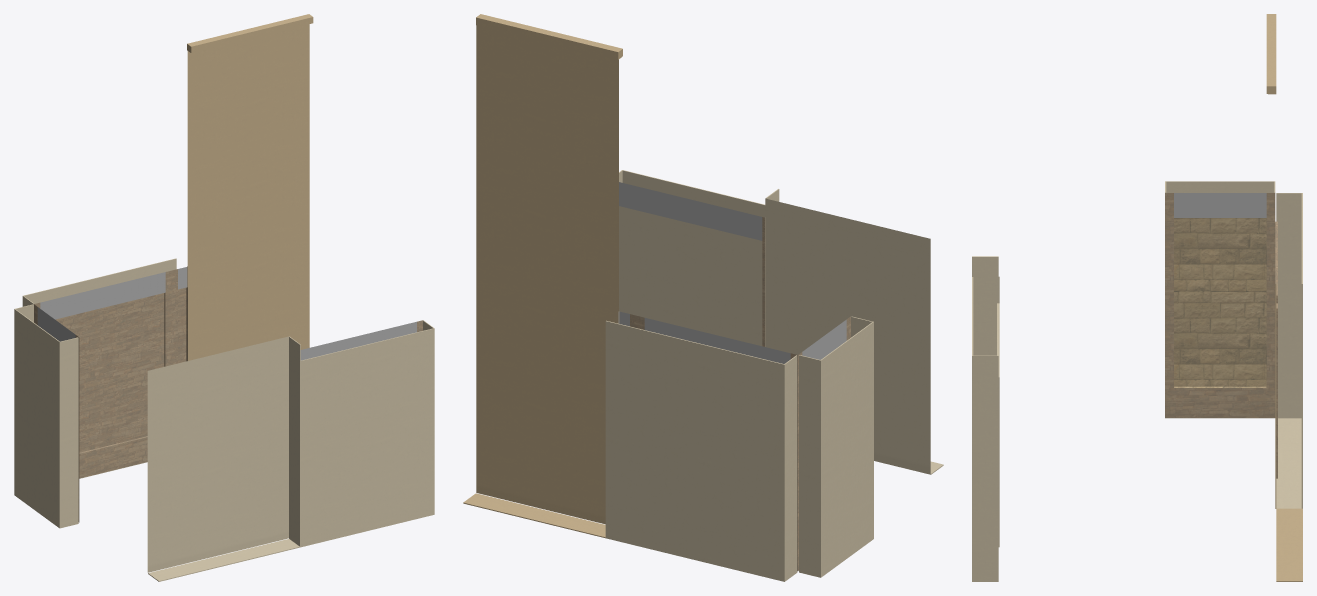
File: unit-link-south-west.glb
3 views of the same model, side by side, from view 1: azimuth 30°, elevation 25°; view 2: azimuth 150°, elevation 25°; view 3: azimuth 270°, elevation 25° (orthographic). The views are drawn at different scales.
Visible parts, largest first — view 1: bz06_pale_lime-cast, bz06_sand_plaster-cast, bz06_service_stone-cast, ph_bz04_stone_trim_sandstone-cast; view 2: bz06_pale_lime-cast, bz06_sand_plaster-cast, ph_bz04_stone_trim_sandstone-cast, bz06_service_stone-cast; view 3: bz06_pale_lime-cast, bz06_dressed_sandstone-cast, bz06_service_stone-cast, bz06_sand_plaster-cast, ph_bz04_stone_trim_sandstone-cast.
Boxes of the visible parts, x1=… form: bz06_pale_lime-cast: x1=14, y1=258, x2=434, y2=581; bz06_sand_plaster-cast: x1=187, y1=14, x2=313, y2=360; bz06_service_stone-cast: x1=34, y1=269, x2=423, y2=522; ph_bz04_stone_trim_sandstone-cast: x1=37, y1=266, x2=416, y2=360; bz06_pale_lime-cast: x1=605, y1=170, x2=943, y2=581; bz06_sand_plaster-cast: x1=463, y1=14, x2=622, y2=538; ph_bz04_stone_trim_sandstone-cast: x1=618, y1=182, x2=846, y2=363; bz06_service_stone-cast: x1=630, y1=217, x2=850, y2=571; bz06_pale_lime-cast: x1=972, y1=181, x2=1302, y2=581; bz06_dressed_sandstone-cast: x1=1174, y1=218, x2=1266, y2=387; bz06_service_stone-cast: x1=1165, y1=193, x2=1277, y2=478; bz06_sand_plaster-cast: x1=1266, y1=14, x2=1302, y2=581; ph_bz04_stone_trim_sandstone-cast: x1=1174, y1=193, x2=1266, y2=217.
Size of the model in its own units: 7.5 by 9.92 by 6.
Materials: 5 (4 with a texture image).
